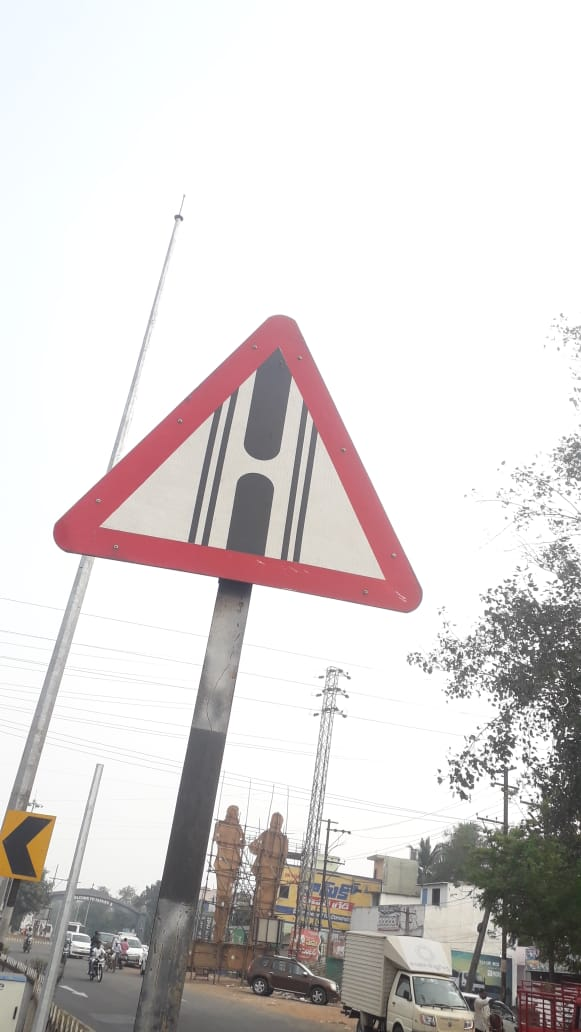highway go straight: (46, 271, 445, 662)
